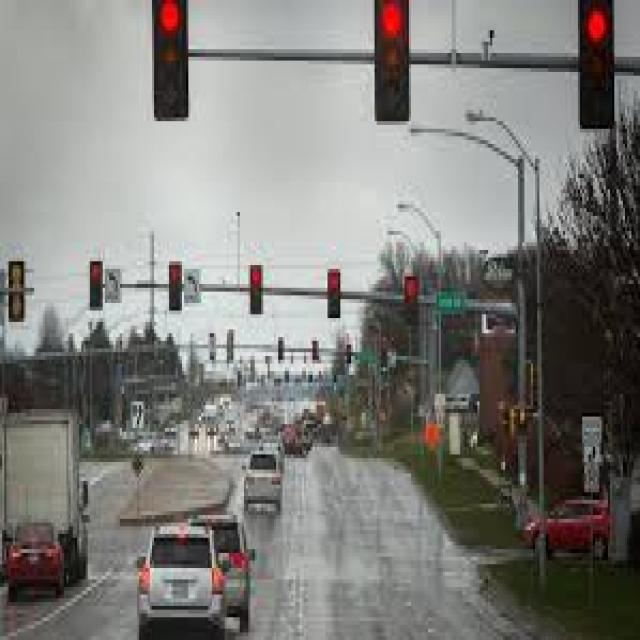red: (370, 0, 420, 117), (578, 0, 619, 140), (152, 0, 190, 120)
